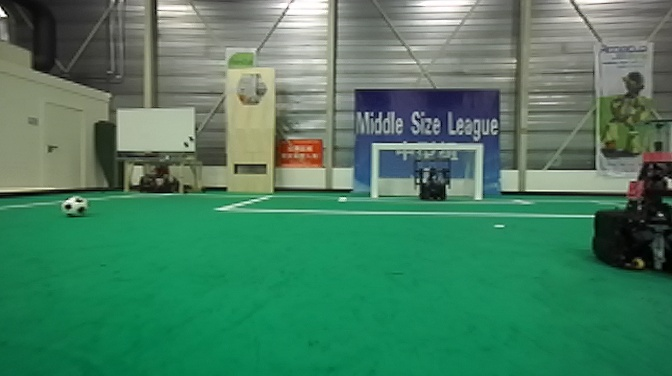ball: (60, 193, 90, 220)
goal: (368, 141, 484, 201)
goalpost: (471, 141, 484, 203), (369, 141, 381, 201)
robot: (587, 117, 672, 277), (412, 157, 454, 204)
